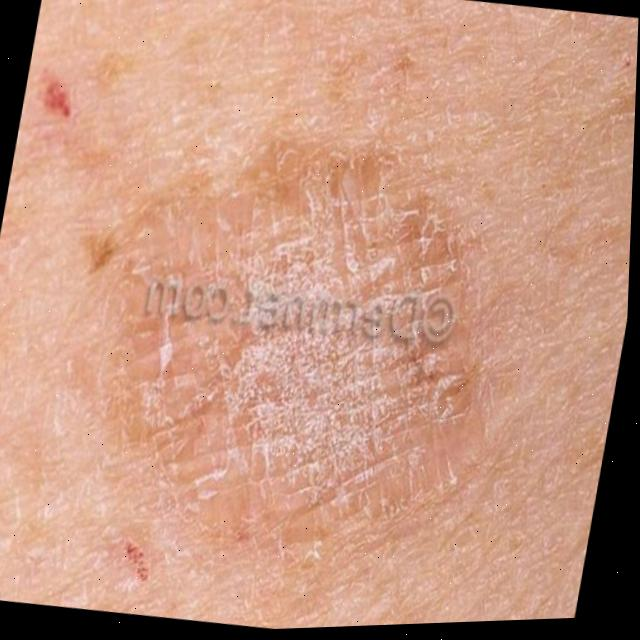Eczema: (60, 71, 544, 588)
